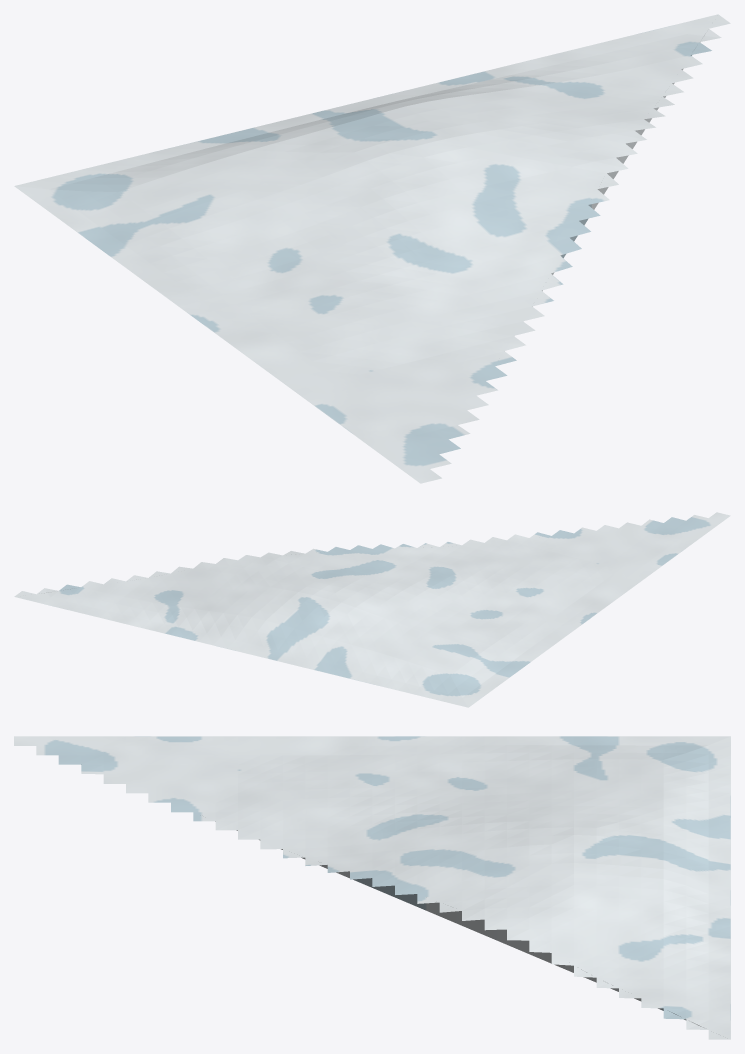
The model's file is Snow_Flat_06_SW.obj.
3 renders of one model, top to bottom at view 1: azimuth 30°, elevation 25°; view 2: azimuth 150°, elevation 25°; view 3: azimuth 270°, elevation 25°, orthographic. The views are drawn at different scales.
Size of the model in its own units: 10 by 0.3906 by 10.
1 material, 1 textured.
